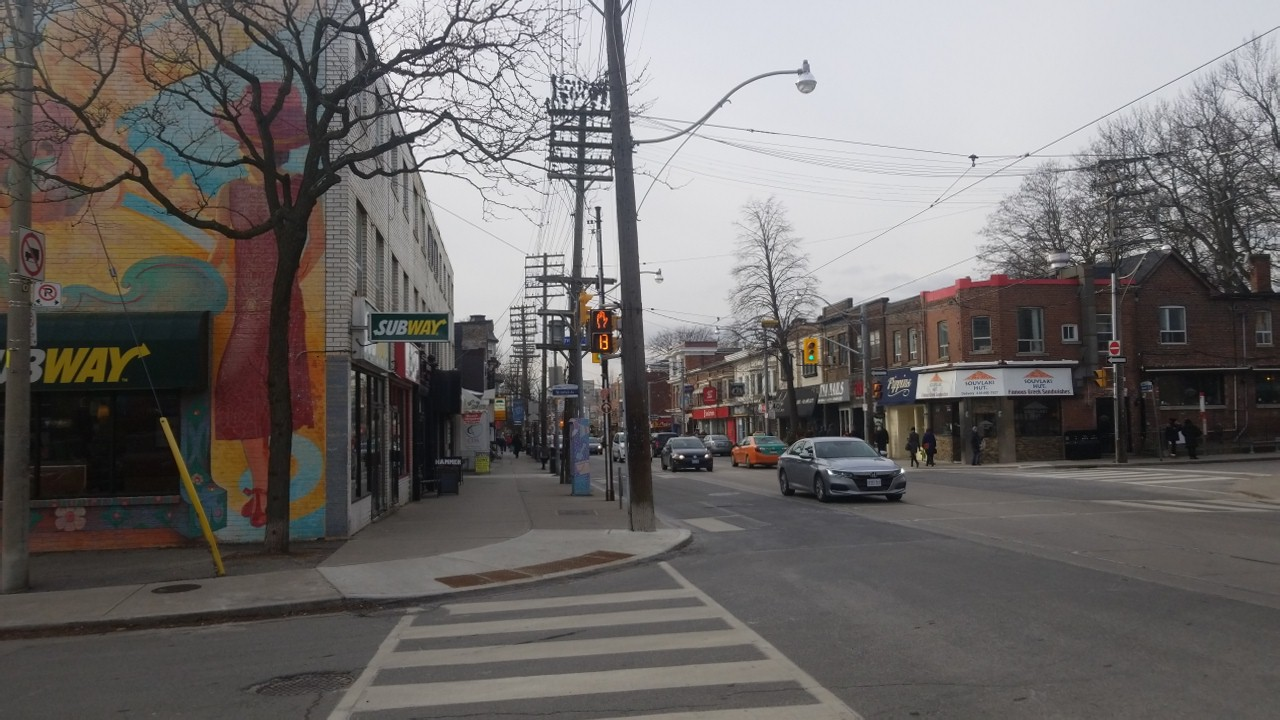light: (588, 307, 613, 354)
